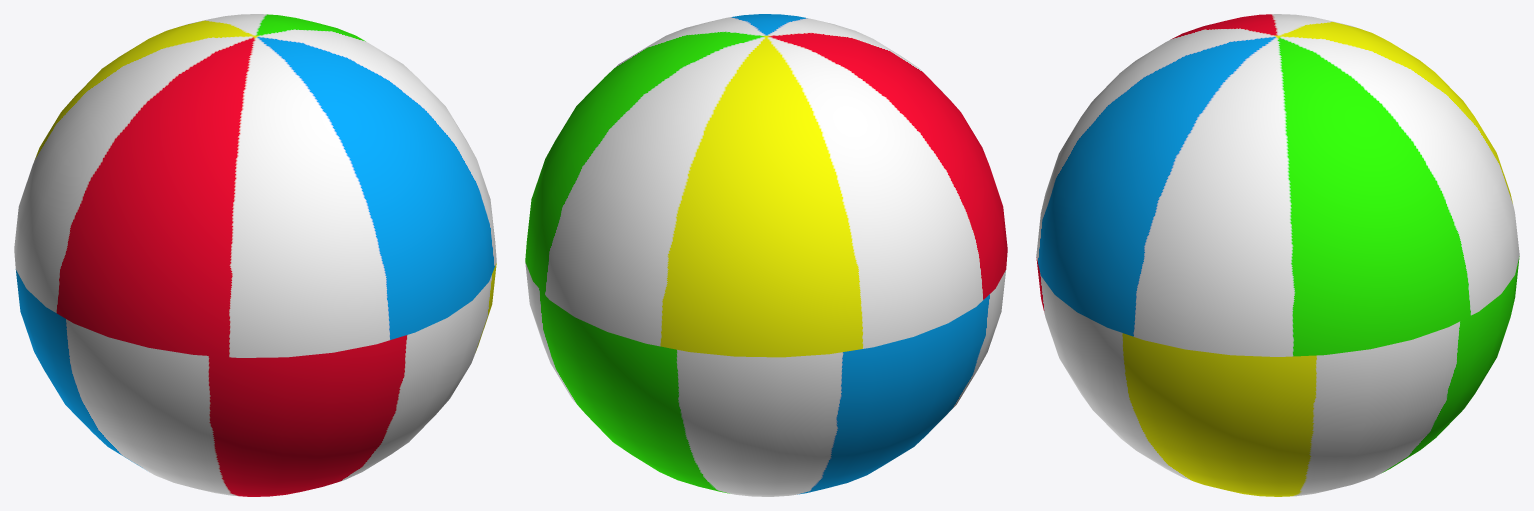
The model's file is playerball.gltf.
3 views of the same model, side by side, from view 1: azimuth 30°, elevation 25°; view 2: azimuth 150°, elevation 25°; view 3: azimuth 270°, elevation 25° (orthographic).
Visible parts, largest first — view 1: Sphere; view 2: Sphere; view 3: Sphere.
Boxes of the visible parts, bbox=[...] form: Sphere: bbox=[14, 14, 496, 496]; Sphere: bbox=[525, 14, 1007, 496]; Sphere: bbox=[1036, 14, 1519, 496].
Size of the model in its own units: 2 by 2 by 2.
1 material, 1 textured.
